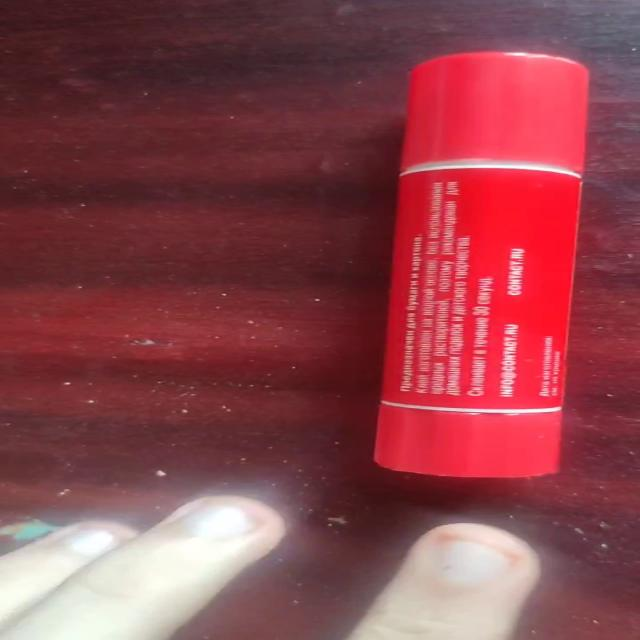glue: (372, 50, 590, 478)
